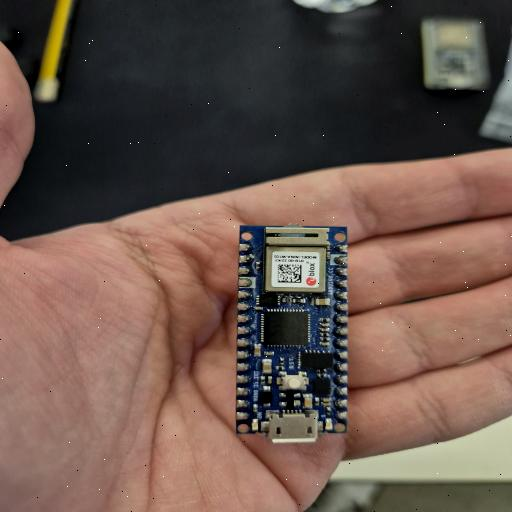arduino-nano-iot-33: (240, 226, 346, 436)
